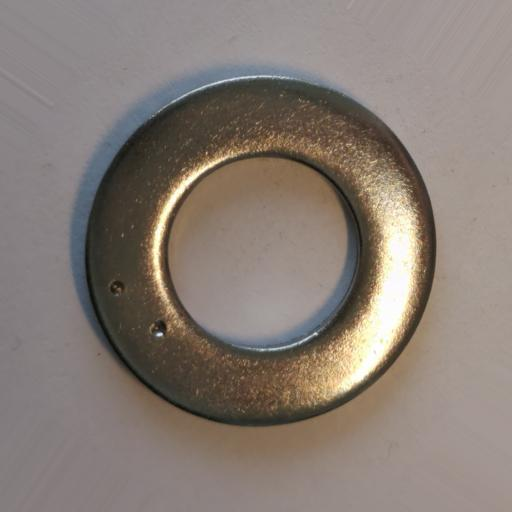circular_cavity: (150, 323, 167, 339), (110, 278, 125, 293)
